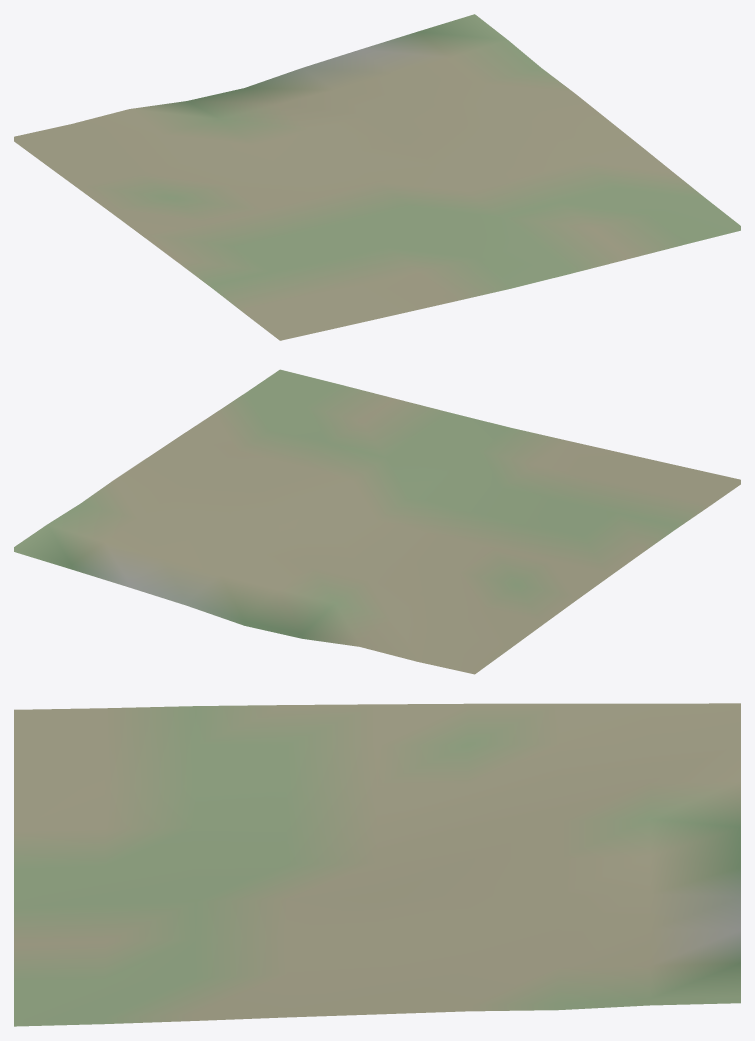
3 renders of one model, top to bottom at view 1: azimuth 30°, elevation 25°; view 2: azimuth 150°, elevation 25°; view 3: azimuth 270°, elevation 25°, orthographic. The views are drawn at different scales.
Visible parts, largest first — view 1: prim0; view 2: prim0; view 3: prim0.
Part boxes in pixels (bbox=[...]): prim0: bbox=[14, 14, 740, 340]; prim0: bbox=[14, 369, 740, 674]; prim0: bbox=[14, 703, 740, 1026].
Bounding box in the file's own units: 512 × 25.17 × 512.
